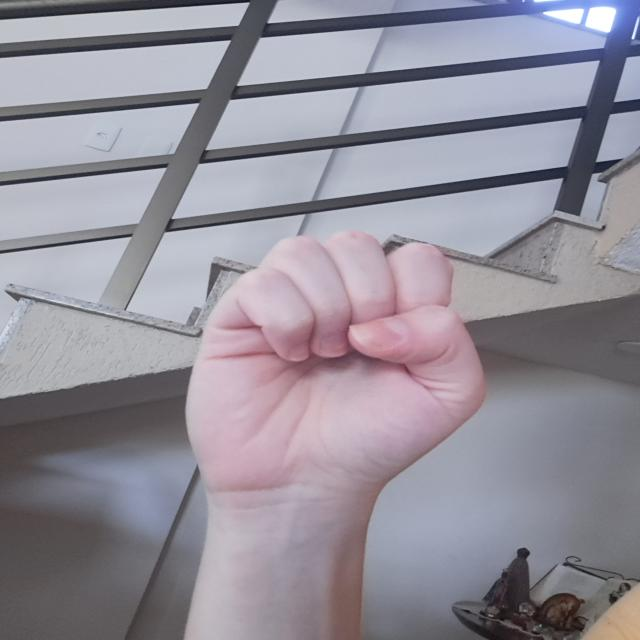S: (180, 222, 497, 500)
